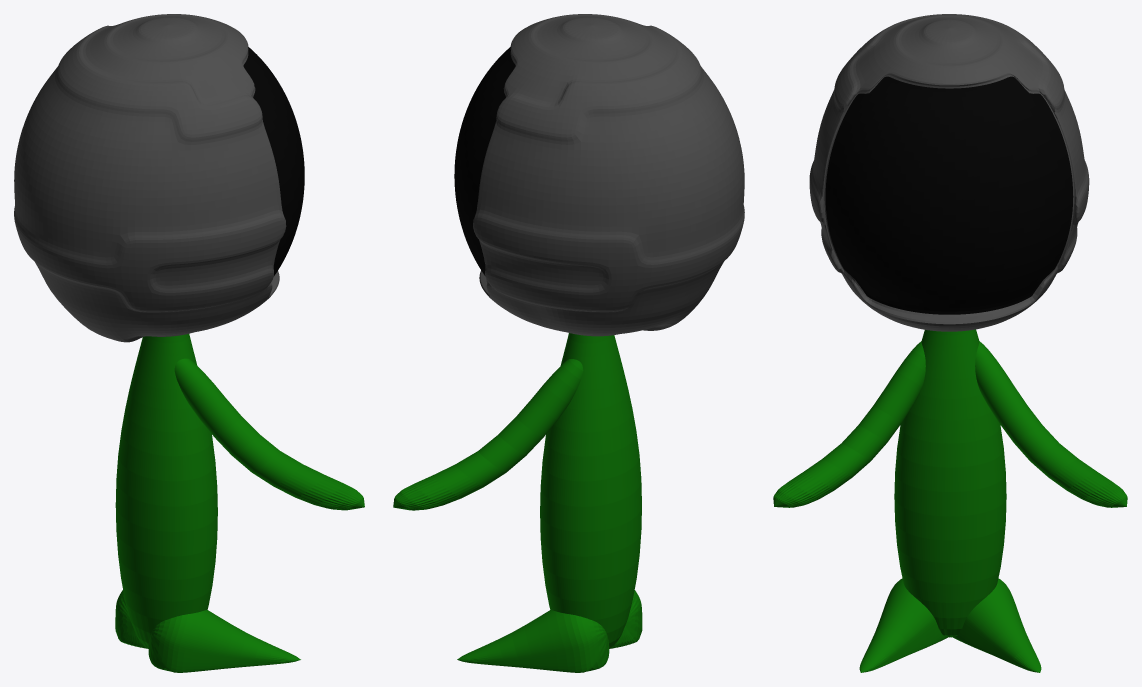
Rendered from alienFinal.fbx.
The picture shows the model from 3 angles, left to right: view 1: azimuth 30°, elevation 25°; view 2: azimuth 150°, elevation 25°; view 3: azimuth 270°, elevation 25°; orthographic projection. The views are drawn at different scales.
Parts seen in each view (by area): view 1: Capacete, Alien Head, Cylinder, Cylinder.001; view 2: Capacete, Alien Head, Cylinder, Cylinder.001; view 3: Capacete, Alien Head, Cylinder, Cylinder.001.
Part boxes in pixels (box(x1,y1,x2,y2)): Capacete: box(14, 14, 304, 342); Alien Head: box(115, 334, 217, 648); Cylinder: box(174, 358, 364, 510); Cylinder.001: box(115, 590, 300, 672); Capacete: box(454, 14, 744, 336); Alien Head: box(540, 333, 641, 648); Cylinder: box(393, 359, 583, 510); Cylinder.001: box(457, 590, 642, 672); Capacete: box(809, 14, 1089, 331); Alien Head: box(894, 329, 1006, 637); Cylinder: box(773, 341, 1127, 507); Cylinder.001: box(859, 578, 1041, 672).
Bounding box in the file's own units: 65.53 × 153 × 81.42.
